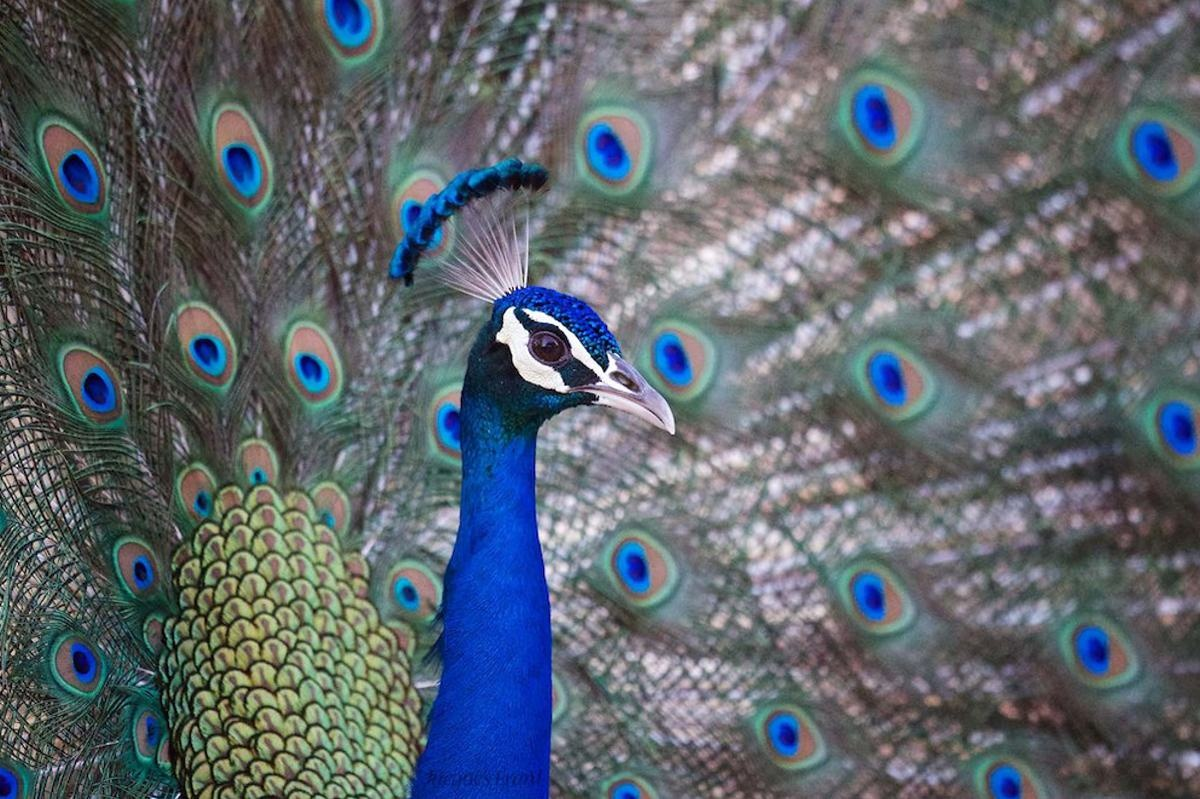peacock: (1, 61, 951, 799)
